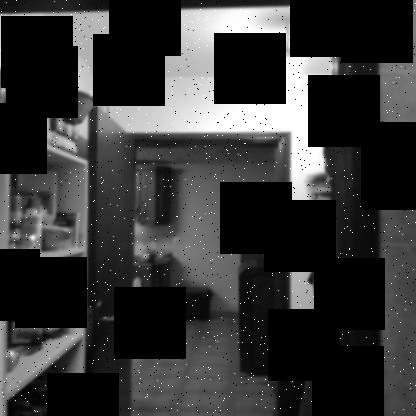Porte: (85, 104, 292, 415)
